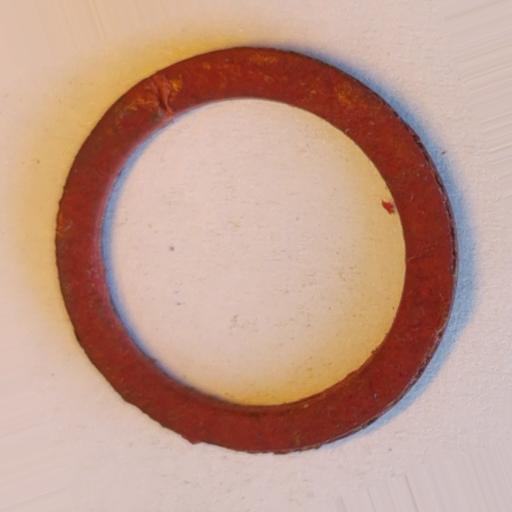defect: (150, 73, 174, 120)
